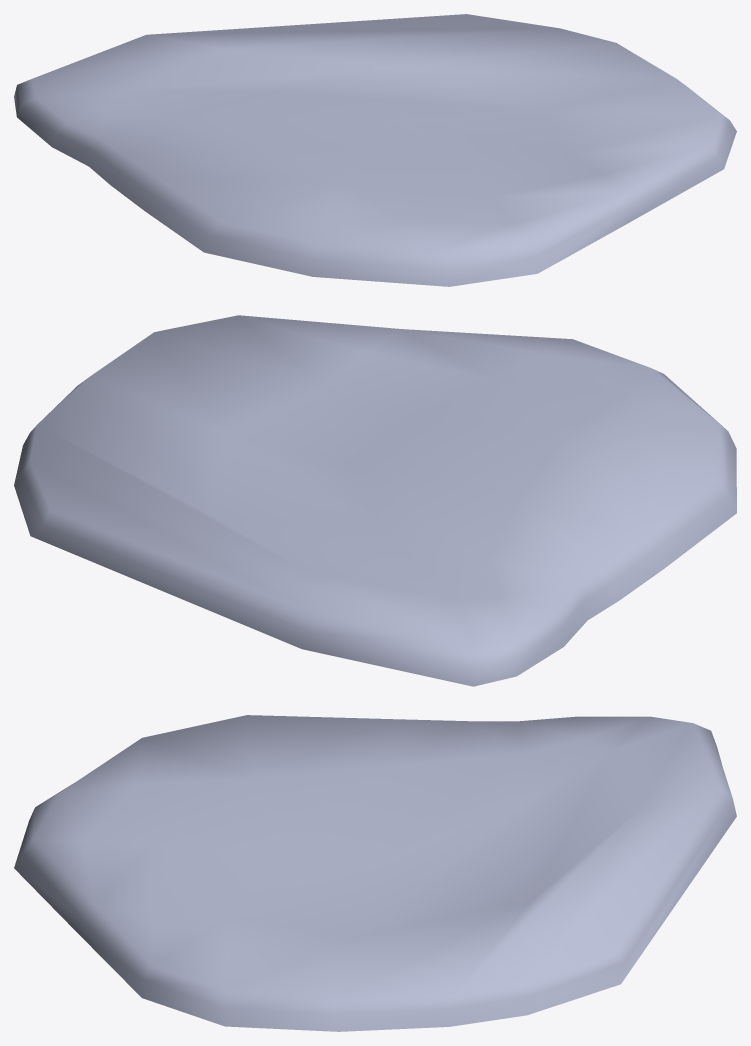
The model's file is Road_Rock_04.fbx.
3 renders of one model, top to bottom at view 1: azimuth 30°, elevation 25°; view 2: azimuth 150°, elevation 25°; view 3: azimuth 270°, elevation 25°, orthographic. The views are drawn at different scales.
Visible parts, largest first — view 1: Road_Rock_04; view 2: Road_Rock_04; view 3: Road_Rock_04.
Part boxes in pixels (left/top/right/bottom): Road_Rock_04: left=14, top=14, right=736, bottom=286; Road_Rock_04: left=14, top=315, right=736, bottom=686; Road_Rock_04: left=14, top=715, right=736, bottom=1031.
Size of the model in its own units: 56.17 by 3.86 by 58.19.
